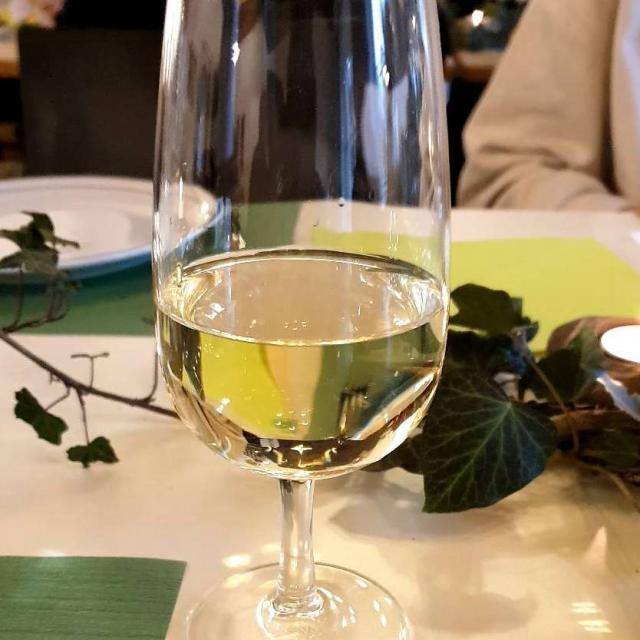wine: (163, 229, 454, 443)
